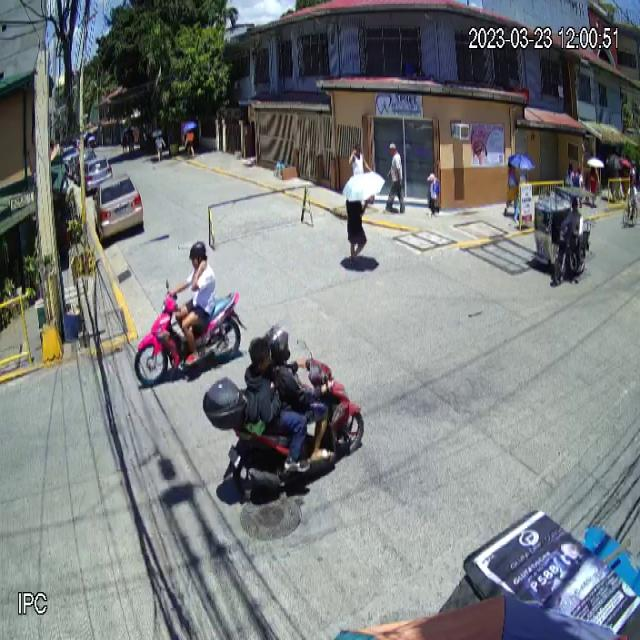Motorcycle: (133, 279, 247, 387)
Tricycle: (533, 184, 593, 286)
